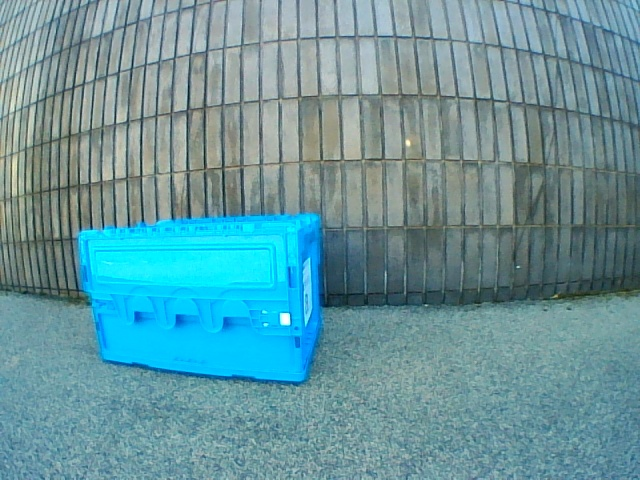blue_box: (77, 213, 321, 382)
tag: (304, 265, 311, 318)
